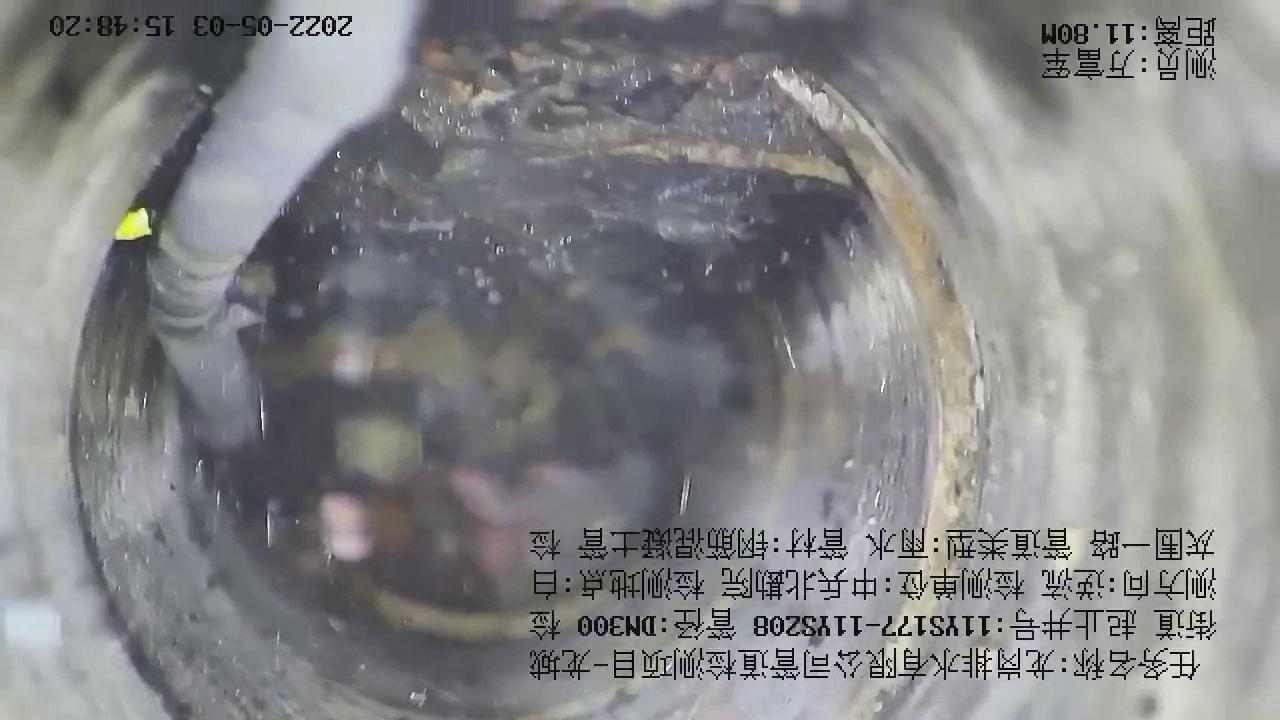CJ: (252, 45, 859, 355)
CKTJ: (781, 67, 985, 717)
YWCR: (152, 1, 424, 441)
